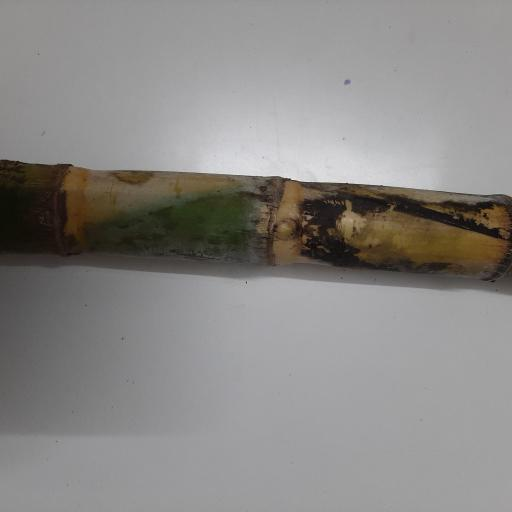Bud: (269, 216, 301, 243)
